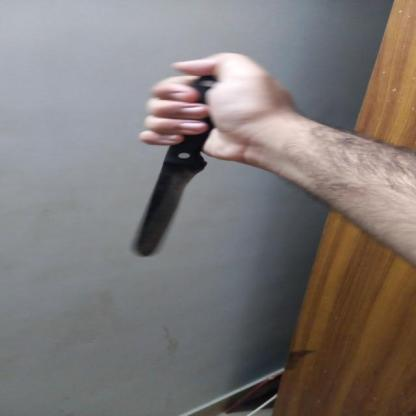Knife: (110, 49, 241, 259)
